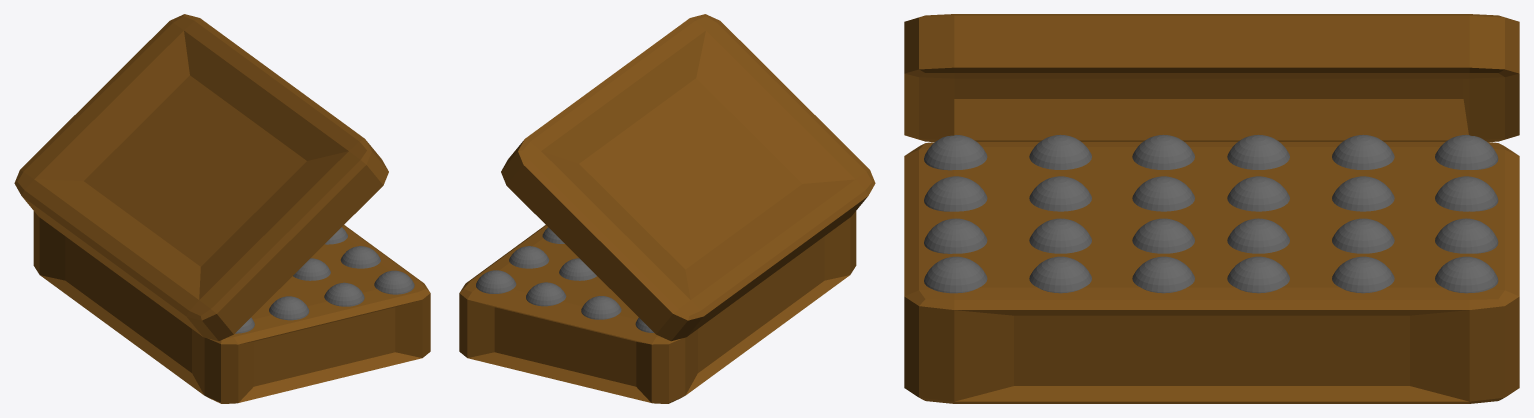
Rendered from Ammo.fbx.
The picture shows the model from 3 angles, left to right: view 1: azimuth 30°, elevation 25°; view 2: azimuth 150°, elevation 25°; view 3: azimuth 270°, elevation 25°; orthographic projection. The views are drawn at different scales.
Parts seen in each view (by area): view 1: Ammo; view 2: Ammo; view 3: Ammo.
Part boxes in pixels (x1,y1,x2,y2): Ammo: (14, 14, 430, 403); Ammo: (459, 14, 875, 403); Ammo: (904, 14, 1519, 403).
Bounding box in the file's own units: 217 × 194 × 310.
